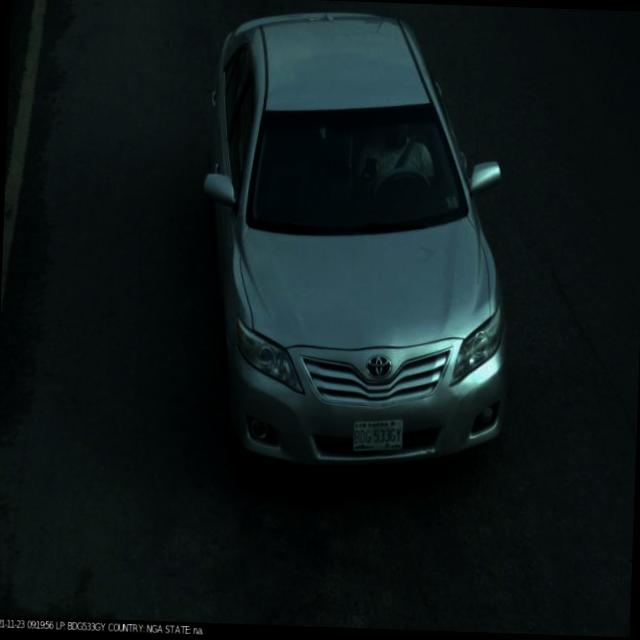person_with_seatbelt: (356, 100, 458, 246)
